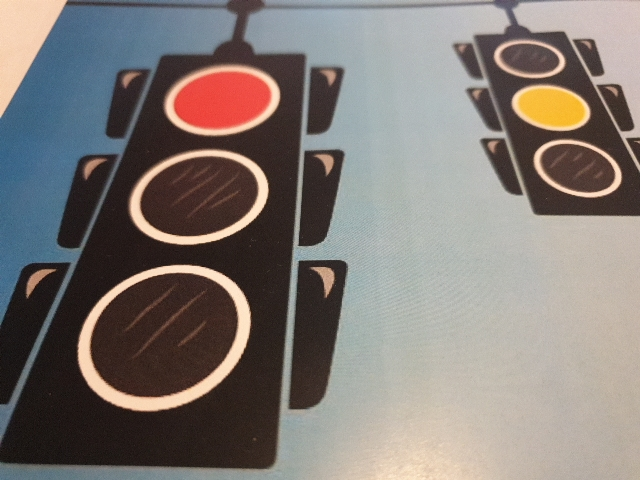amber: (494, 45, 607, 197)
red: (151, 70, 257, 415)
